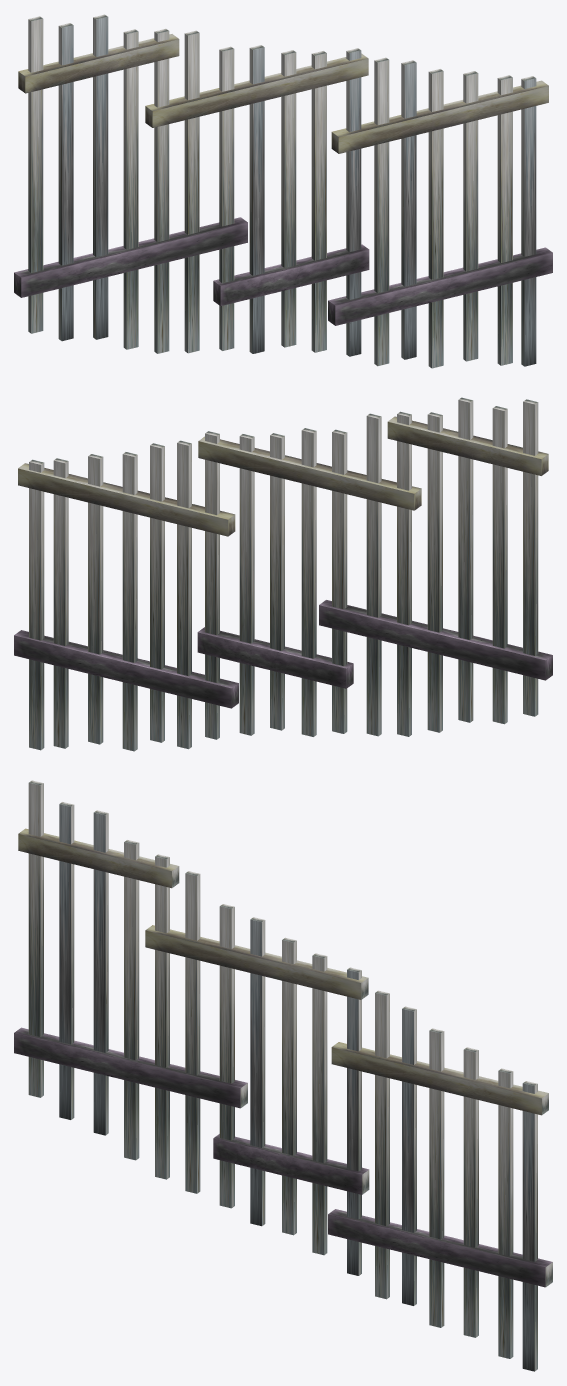
File: fence_10x5_steep.DAE
3 views of the same model, one above another, from view 1: azimuth 30°, elevation 25°; view 2: azimuth 150°, elevation 25°; view 3: azimuth 330°, elevation 25° (orthographic).
Visible parts, largest first — view 1: Object05; view 2: Object05; view 3: Object05.
Part boxes in pixels (box(x1,y1,x2,y2)): Object05: box(14, 14, 552, 368); Object05: box(14, 397, 552, 751); Object05: box(14, 780, 552, 1371).
Bounding box in the file's own units: 11.24 × 9.42 × 0.267.
